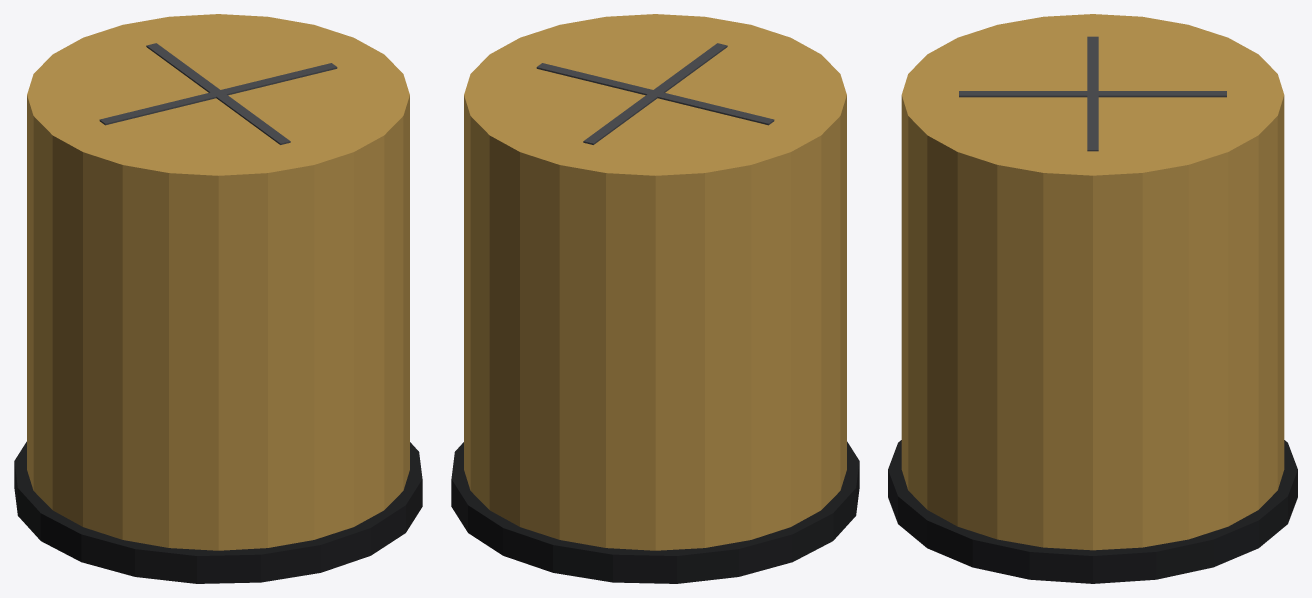
The model's file is L130_AUDIO_C1.fbx.
The picture shows the model from 3 angles, left to right: view 1: azimuth 30°, elevation 25°; view 2: azimuth 150°, elevation 25°; view 3: azimuth 270°, elevation 25°; orthographic projection.
Parts seen in each view (by area): view 1: AUDIO_C1__Gold, AUDIO_C1__Plastic, AUDIO_C1__Pad; view 2: AUDIO_C1__Gold, AUDIO_C1__Plastic, AUDIO_C1__Pad; view 3: AUDIO_C1__Gold, AUDIO_C1__Plastic, AUDIO_C1__Pad.
Boxes of the visible parts, left/top/right/bottom form: AUDIO_C1__Gold: left=27, top=14, right=409, bottom=550; AUDIO_C1__Plastic: left=14, top=441, right=422, bottom=583; AUDIO_C1__Pad: left=99, top=43, right=337, bottom=144; AUDIO_C1__Gold: left=464, top=14, right=846, bottom=550; AUDIO_C1__Plastic: left=451, top=441, right=859, bottom=583; AUDIO_C1__Pad: left=536, top=43, right=774, bottom=144; AUDIO_C1__Gold: left=901, top=14, right=1284, bottom=550; AUDIO_C1__Plastic: left=888, top=440, right=1297, bottom=583; AUDIO_C1__Pad: left=959, top=36, right=1226, bottom=151.
Bounding box in the file's own units: 6 × 6.53 × 6.
